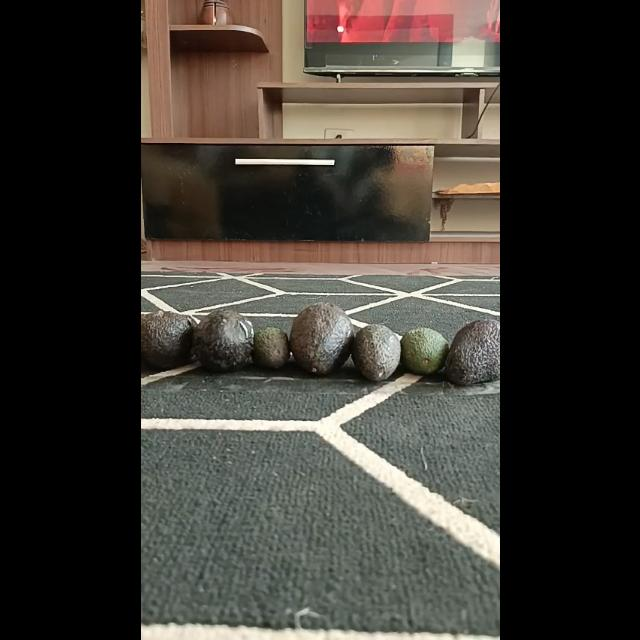Primera: (288, 301, 352, 373), (190, 308, 254, 372), (443, 318, 499, 386), (140, 310, 196, 370)
Segunda: (352, 324, 401, 381), (400, 326, 450, 376)
Tercera: (252, 326, 288, 369)
